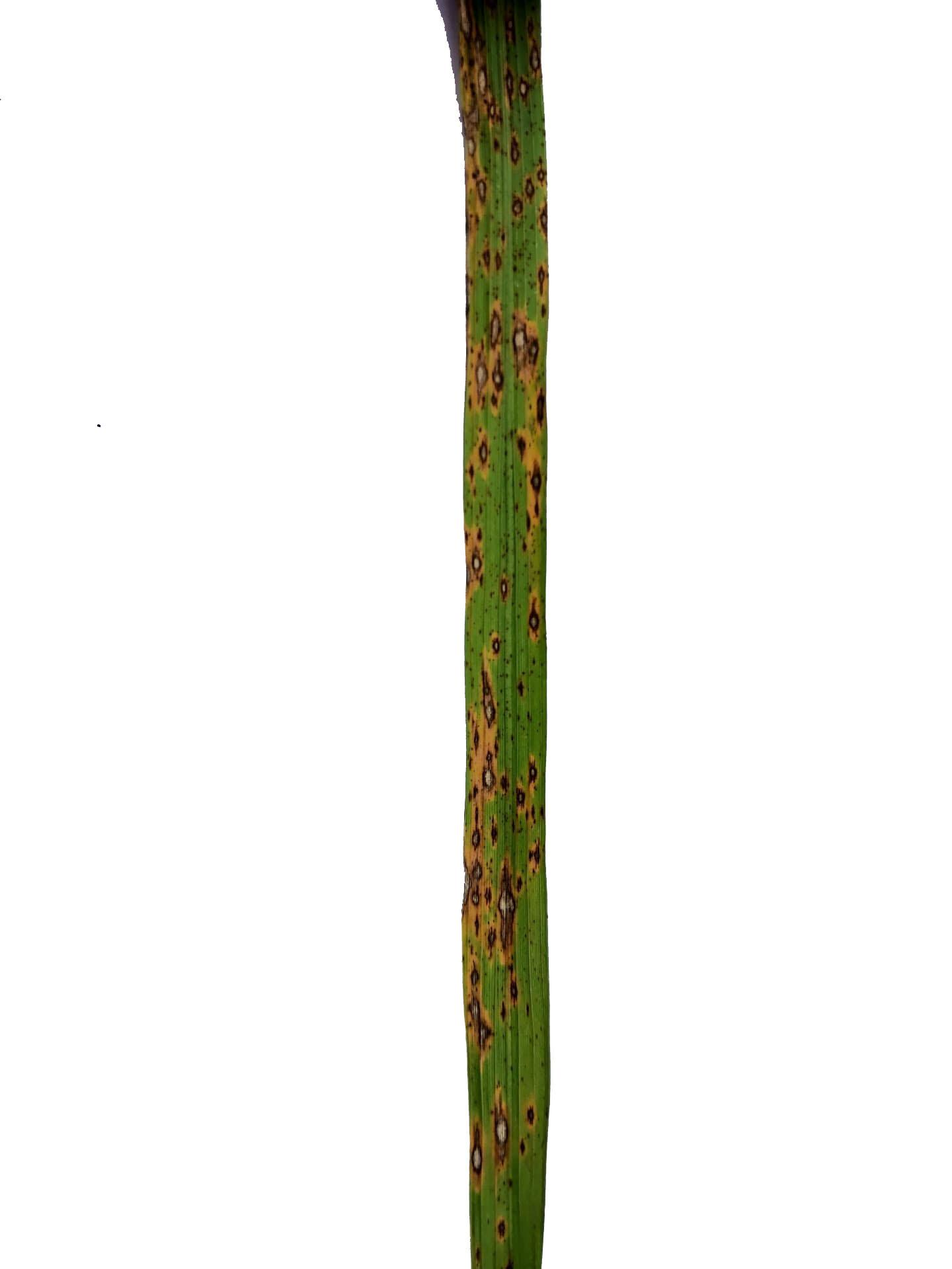Brown spot: (511, 197, 523, 217)
Rice blast: (492, 859, 522, 965), (464, 986, 500, 1057), (470, 350, 510, 406), (488, 1095, 516, 1167), (511, 319, 538, 378), (464, 846, 487, 909), (478, 663, 501, 722), (467, 1126, 487, 1187), (456, 0, 479, 48), (477, 760, 499, 804), (484, 311, 507, 353), (460, 98, 487, 132), (503, 69, 521, 116), (472, 436, 491, 472), (468, 550, 488, 580), (531, 454, 540, 518), (527, 605, 542, 642), (475, 64, 491, 97), (466, 959, 484, 988), (525, 1100, 538, 1137), (503, 16, 518, 48), (531, 41, 543, 80), (525, 761, 541, 790), (477, 172, 490, 206), (535, 389, 546, 429), (527, 839, 540, 872), (517, 77, 531, 106), (511, 783, 526, 810), (513, 436, 529, 461), (478, 245, 492, 273), (466, 134, 479, 163), (523, 177, 537, 203), (506, 978, 520, 1004), (495, 1219, 509, 1242), (472, 809, 480, 849), (471, 914, 482, 941), (492, 810, 500, 847), (510, 139, 521, 165), (539, 262, 547, 296), (495, 249, 505, 276), (486, 101, 499, 121), (490, 639, 505, 654)
